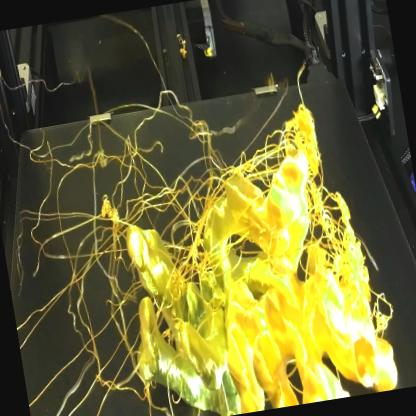fail: (18, 103, 236, 282), (11, 269, 153, 416), (299, 143, 362, 263), (226, 119, 295, 205)
